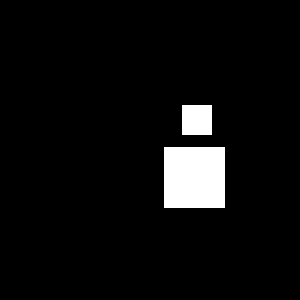circle: (164, 147, 225, 208), (182, 105, 212, 135)
